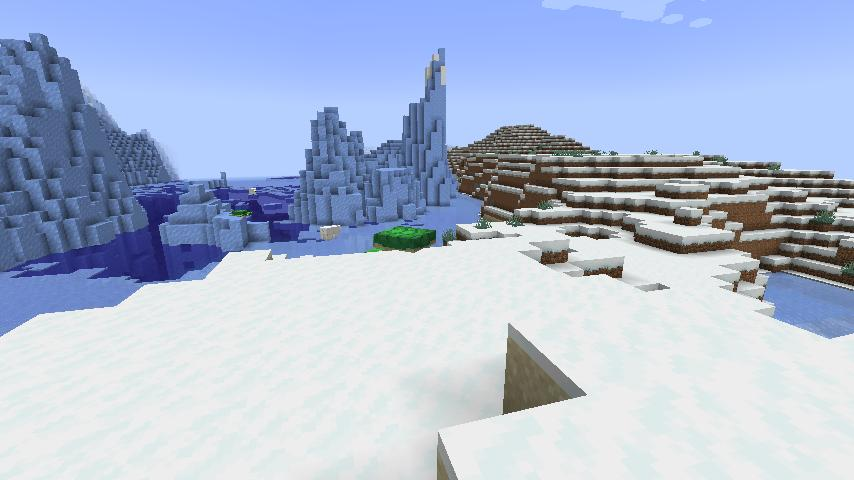turtle: (367, 222, 438, 256), (229, 207, 252, 219)
